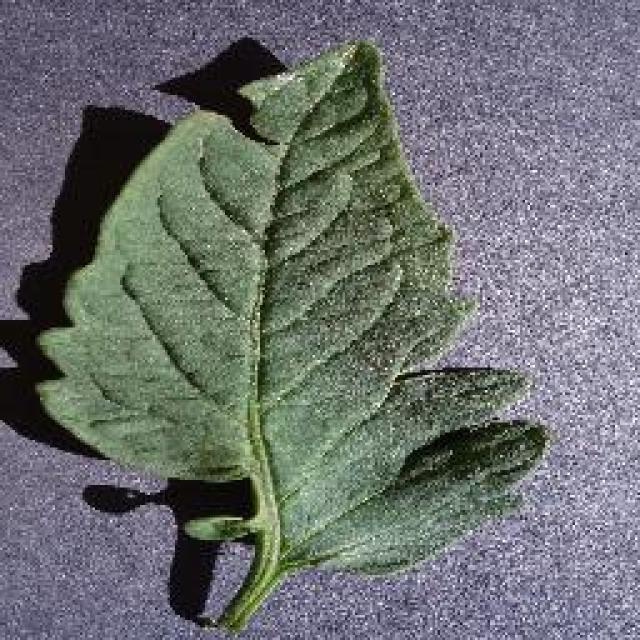Tomato___healthy: (32, 38, 553, 632)
